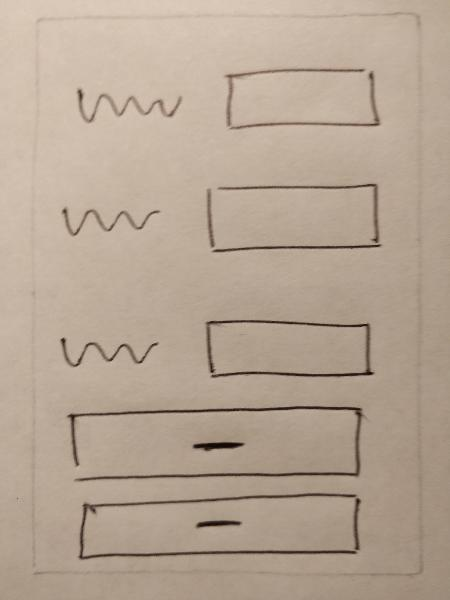button: (57, 401, 370, 486), (61, 489, 370, 568)
text: (66, 80, 189, 139), (51, 321, 165, 380), (53, 192, 166, 240)
text_input: (194, 168, 392, 266), (195, 309, 384, 391), (214, 61, 391, 139)
